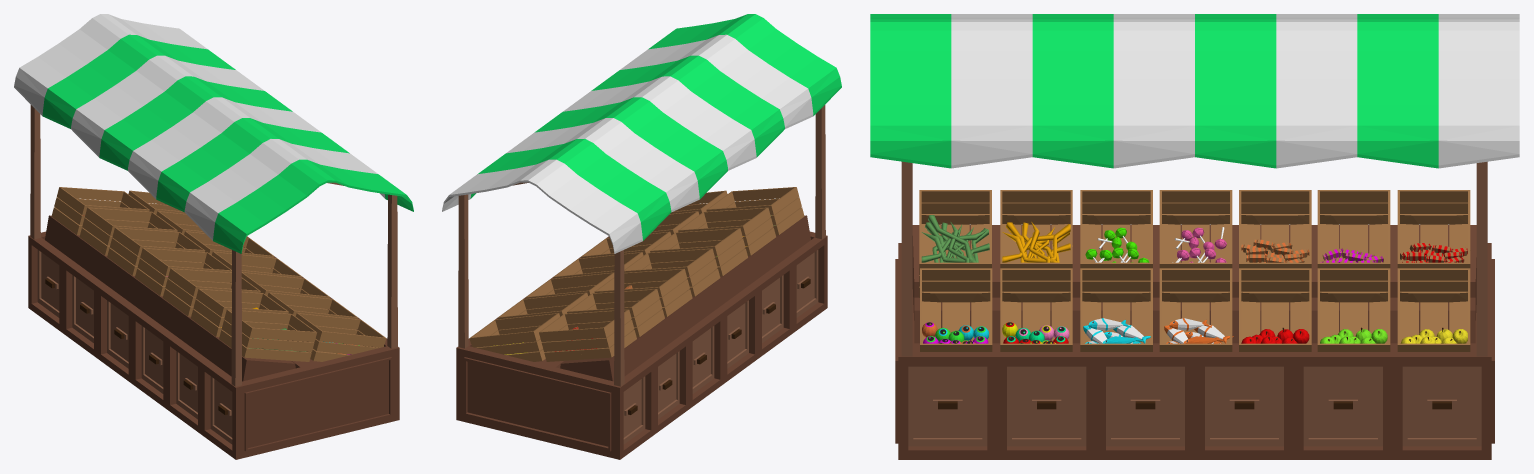
The model's file is IngredientStandGreen.fbx.
3 renders of one model, left to right at view 1: azimuth 30°, elevation 25°; view 2: azimuth 150°, elevation 25°; view 3: azimuth 270°, elevation 25°, orthographic. The views are drawn at different scales.
Parts seen in each view (by area): view 1: IngredientStand; view 2: IngredientStand; view 3: IngredientStand.
Boxes of the visible parts, x1,y1,x2,y2 form: IngredientStand: (14,14,413,459); IngredientStand: (442,14,841,459); IngredientStand: (870,14,1519,459).
Bounding box in the file's own units: 720 × 1065 × 1645.
